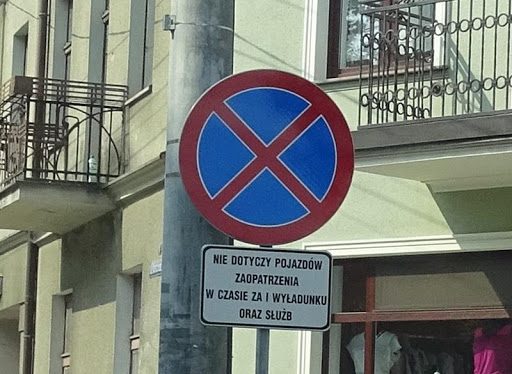no_stopping_sign: (178, 69, 355, 247)
